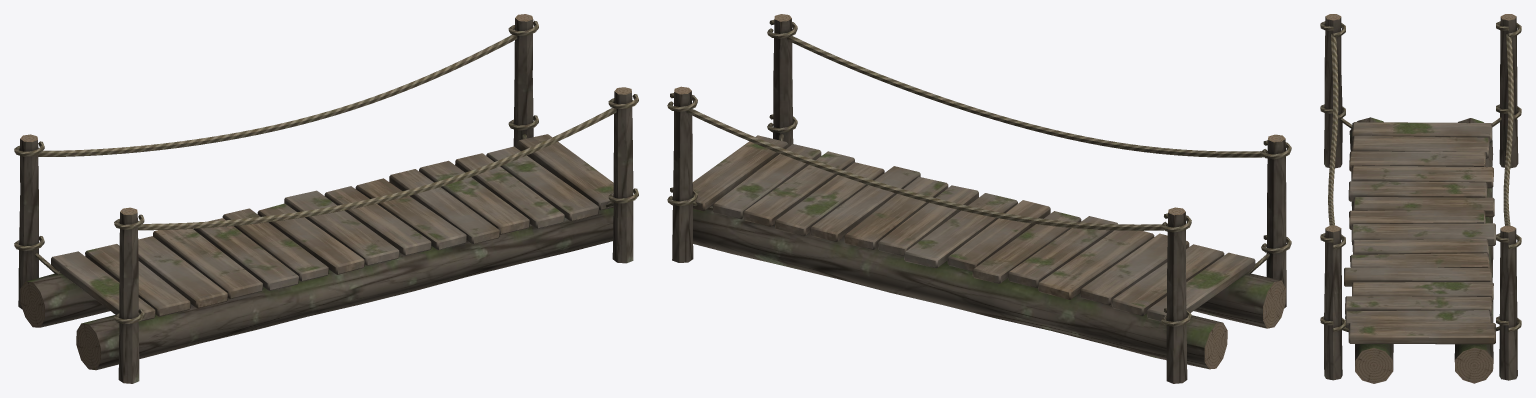
File: fm_log_bridge_rope.glb
3 renders of one model, left to right at view 1: azimuth 30°, elevation 25°; view 2: azimuth 150°, elevation 25°; view 3: azimuth 270°, elevation 25°, orthographic. The views are drawn at different scales.
Visible parts, largest first — view 1: fm_log_bridge_rope; view 2: fm_log_bridge_rope; view 3: fm_log_bridge_rope.
Part boxes in pixels (left/top/right/bottom): fm_log_bridge_rope: left=14, top=14, right=638, bottom=383; fm_log_bridge_rope: left=667, top=14, right=1291, bottom=383; fm_log_bridge_rope: left=1320, top=14, right=1521, bottom=383.
Bounding box in the file's own units: 4.31 × 1.31 × 1.61.
Materials: 1 (1 with a texture image).
